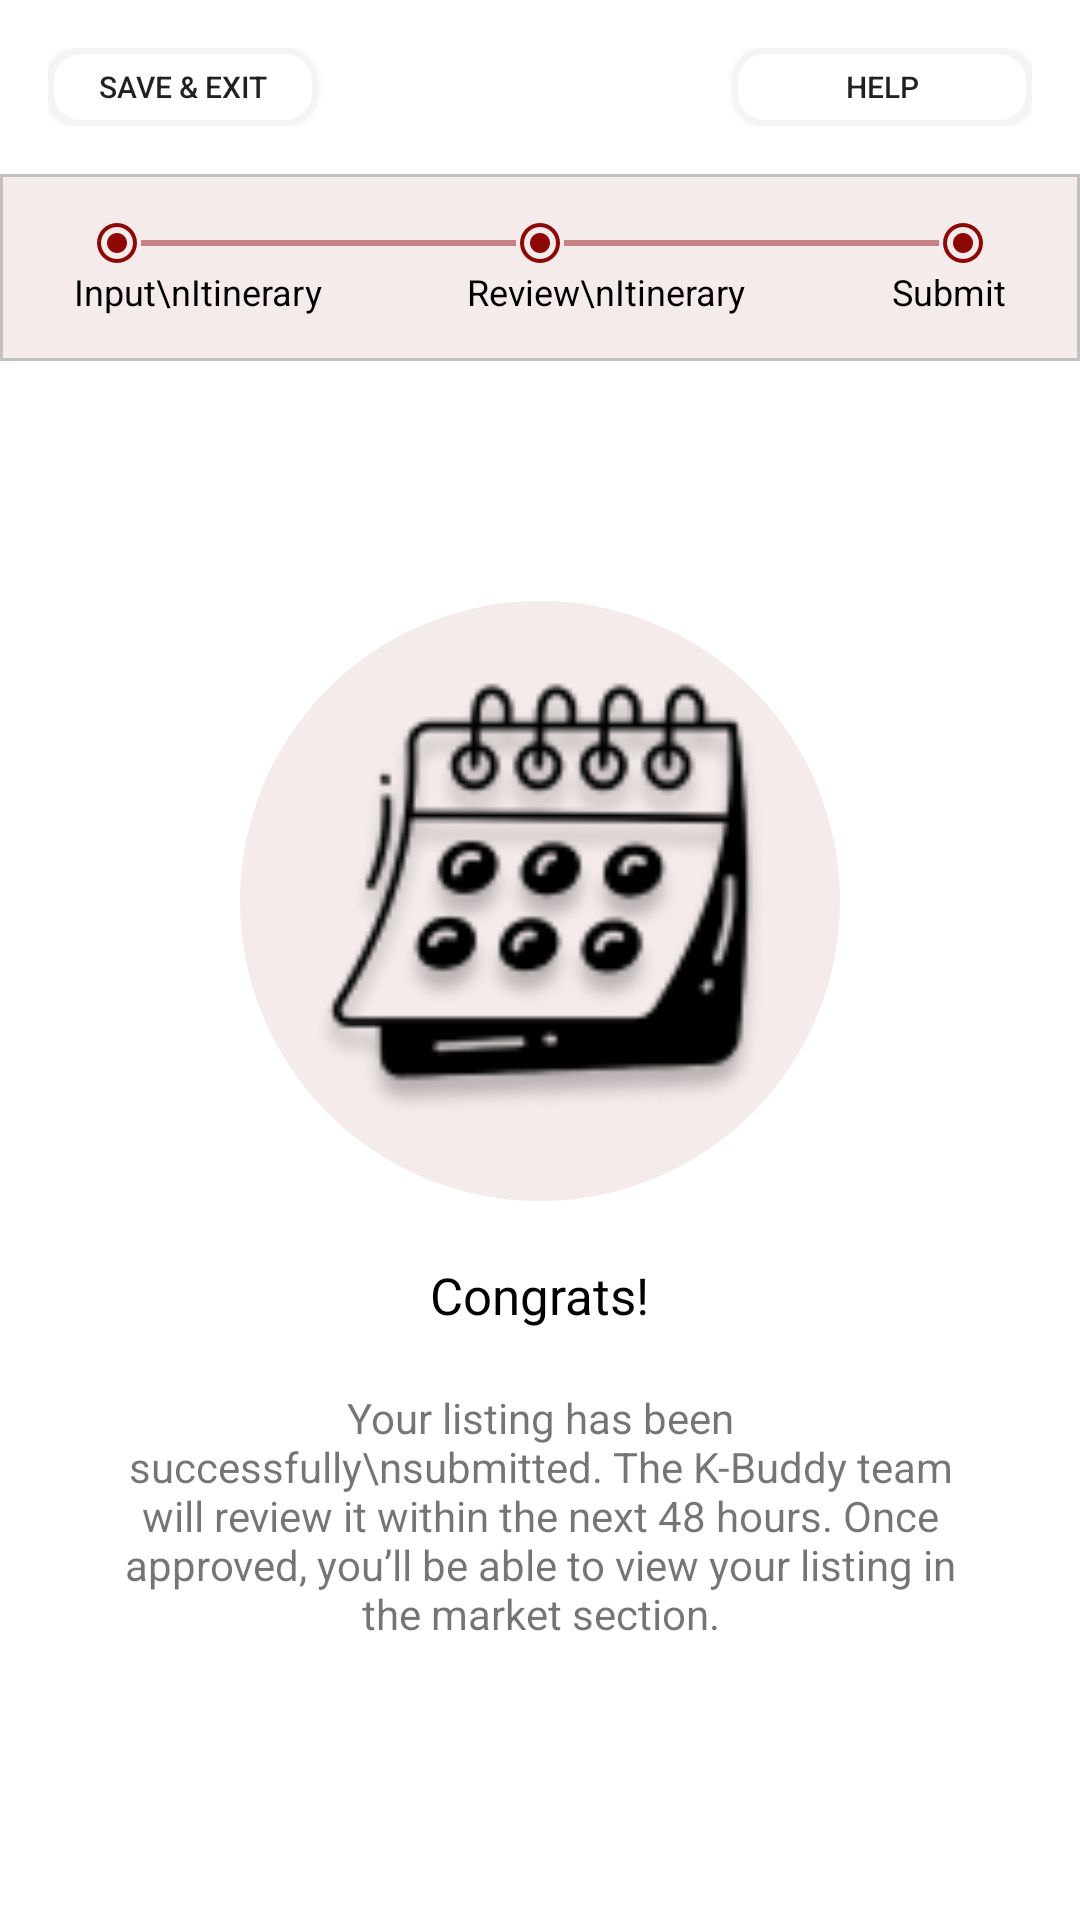

Where to tap for icons on this 1080 x 1920 app screen, as (x=x, y=y):
progressed circle: (x=117, y=243), (x=540, y=243), (x=963, y=243)
